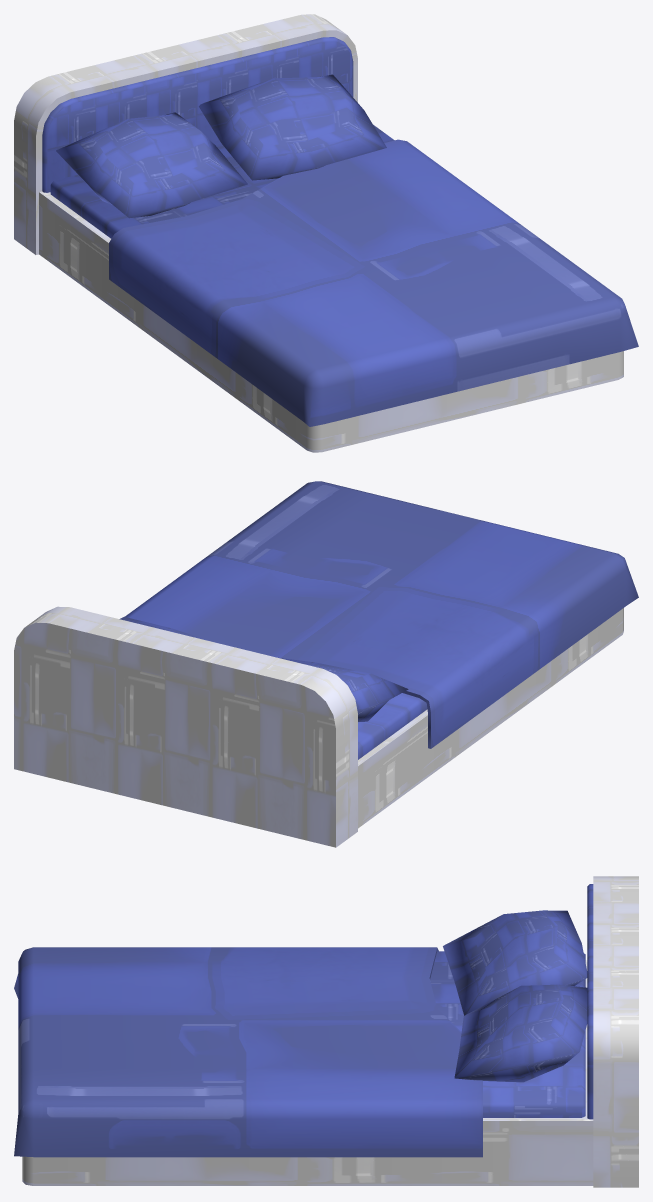
File: bed.gltf
The picture shows the model from 3 angles, top to bottom: view 1: azimuth 30°, elevation 25°; view 2: azimuth 150°, elevation 25°; view 3: azimuth 270°, elevation 25°; orthographic projection. The views are drawn at different scales.
Parts seen in each view (by area): view 1: coverlet, bed, pillow.002, pillow.001; view 2: bed, coverlet, pillow.001; view 3: coverlet, bed, pillow.002, pillow.001.
Part boxes in pixels (<box>): coverlet: <box>109,139,638,426</box>; bed: <box>14,14,623,452</box>; pillow.002: <box>199,74,386,180</box>; pillow.001: <box>56,112,247,218</box>; bed: <box>14,606,623,847</box>; coverlet: <box>125,481,638,748</box>; pillow.001: <box>278,657,408,721</box>; coverlet: <box>14,947,482,1157</box>; bed: <box>22,876,638,1187</box>; pillow.002: <box>454,984,587,1082</box>; pillow.001: <box>443,910,587,1015</box>.
Bounding box in the file's own units: 52.16 × 23.36 × 82.08.
